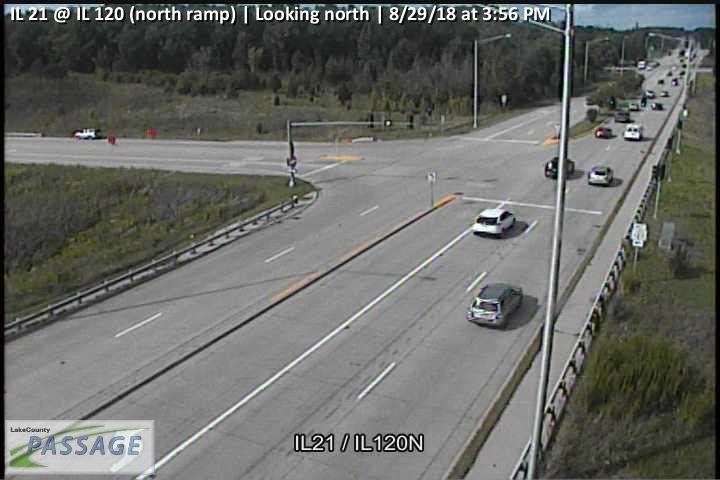SUV: (467, 281, 522, 328), (472, 207, 515, 239), (544, 157, 574, 179), (587, 166, 613, 186), (623, 122, 643, 140), (74, 128, 100, 140), (613, 109, 629, 123)
Sedan: (594, 127, 612, 138), (650, 102, 663, 110), (629, 102, 639, 111)
